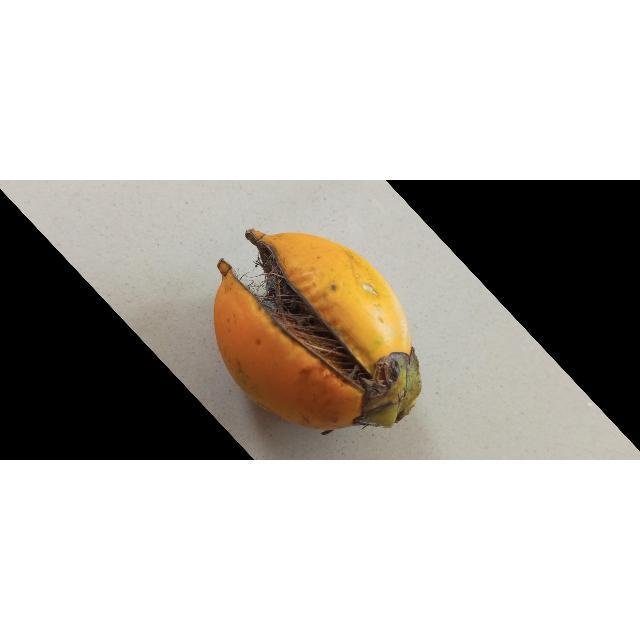damaged: (214, 229, 422, 435)
